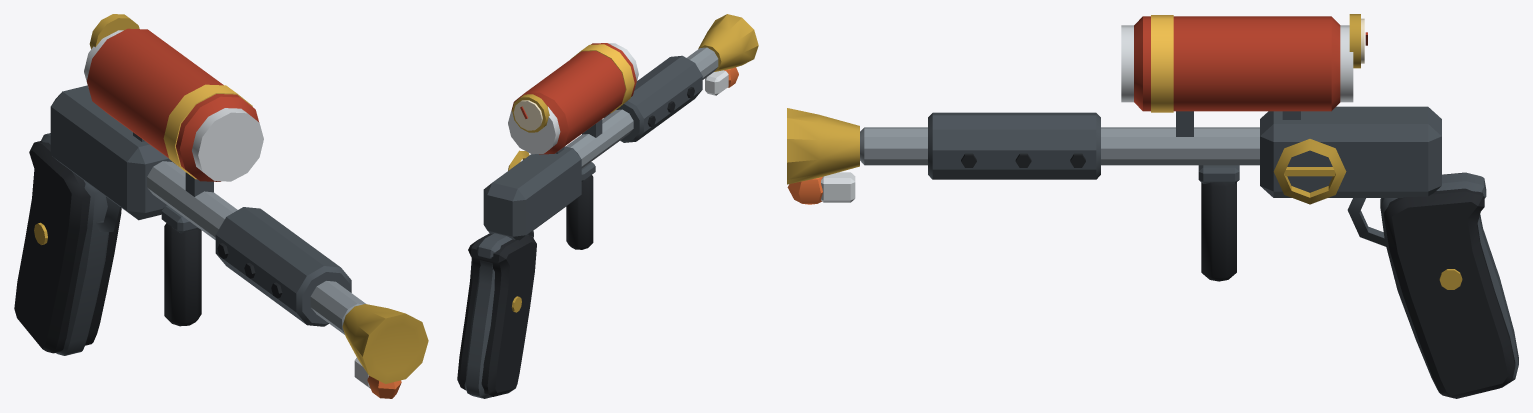
Rendered from Weapon_Flamethrower.fbx.
3 renders of one model, left to right at view 1: azimuth 30°, elevation 25°; view 2: azimuth 150°, elevation 25°; view 3: azimuth 270°, elevation 25°, orthographic. The views are drawn at different scales.
Visible parts, largest first — view 1: Flamer, PilotFlame; view 2: Flamer; view 3: Flamer, PilotFlame.
Part boxes in pixels (x1,y1,x2,y2): Flamer: (14,14,428,388); PilotFlame: (367,376,401,398); Flamer: (457,14,758,398); Flamer: (787,14,1518,398); PilotFlame: (787,177,822,204).
Size of the model in its own units: 0.441 by 1.84 by 3.22.
